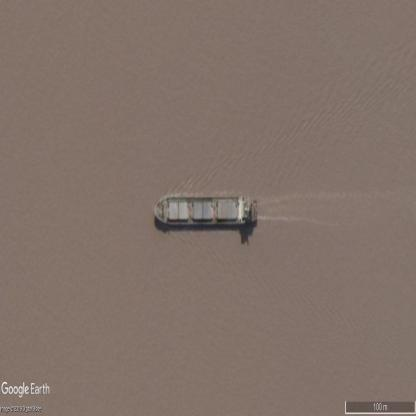ship: (153, 193, 258, 228)
